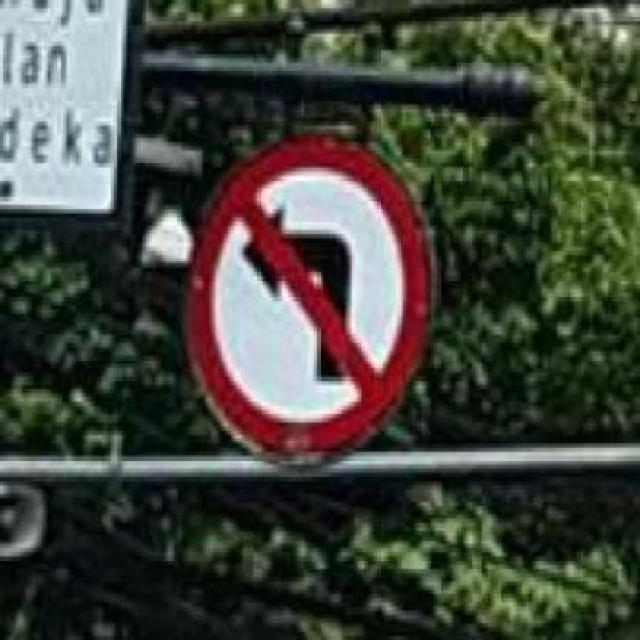left turn prohibited: (178, 126, 439, 471)
